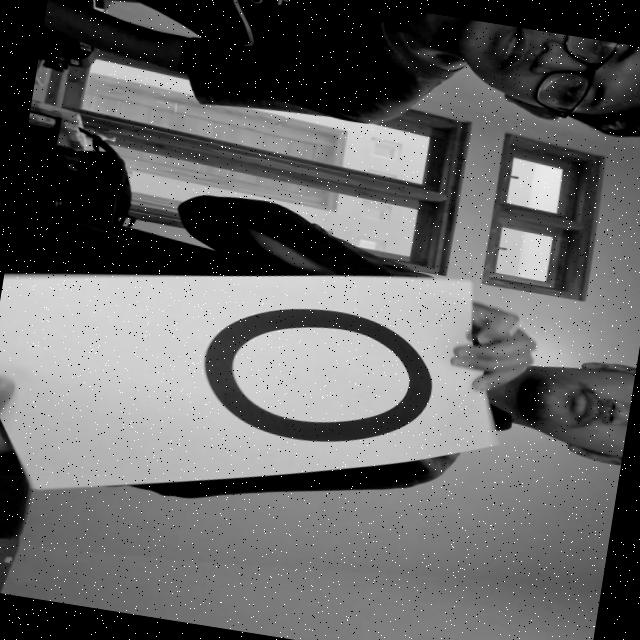o: (180, 285, 457, 468)
